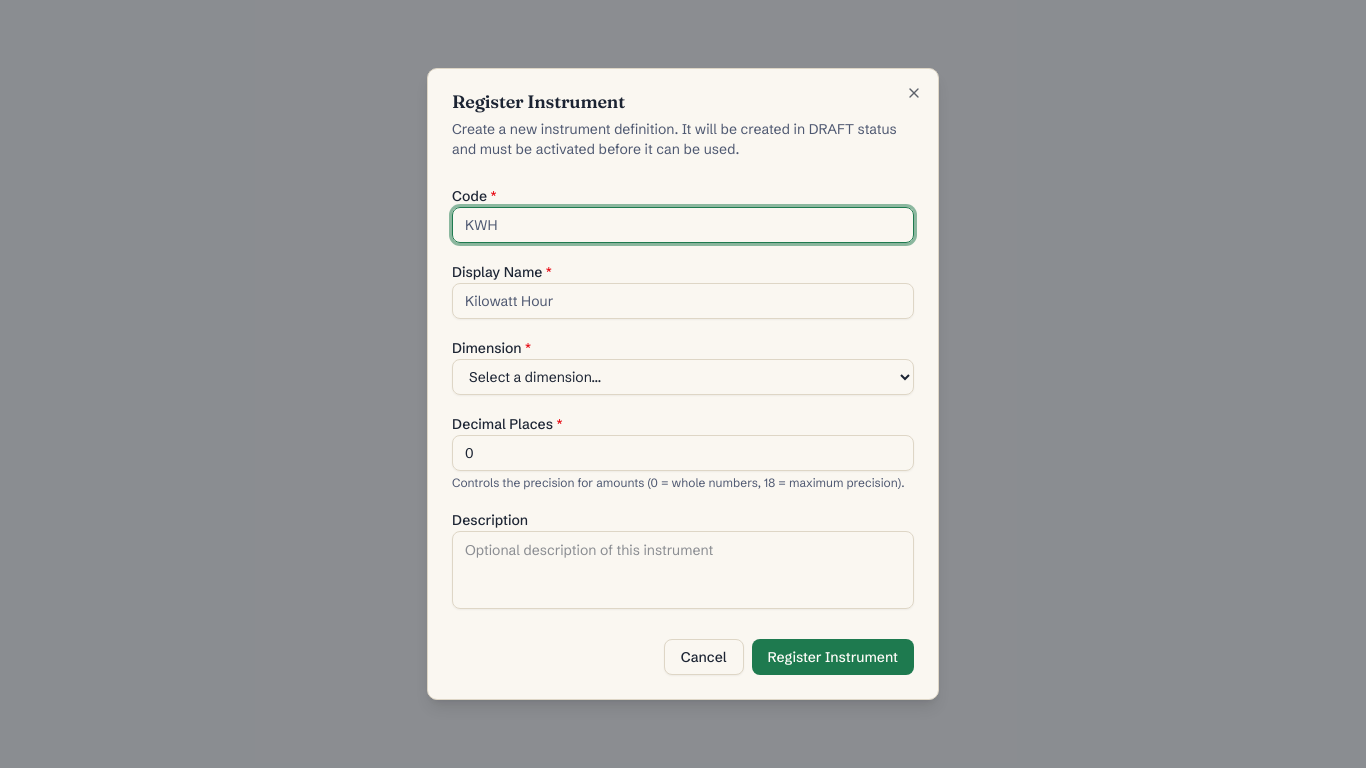
Scenario: RegisterInstrumentDialog › validates code pattern - must match ^[A-Z][A-Z0-9_]*$
# Type lowercase then blur (auto-uppercase won't help if we set directly)
Type "1INVALID" into the field labelled "Code *" at coordinates (683, 225), box x1=452 y1=207 x2=914 y2=243
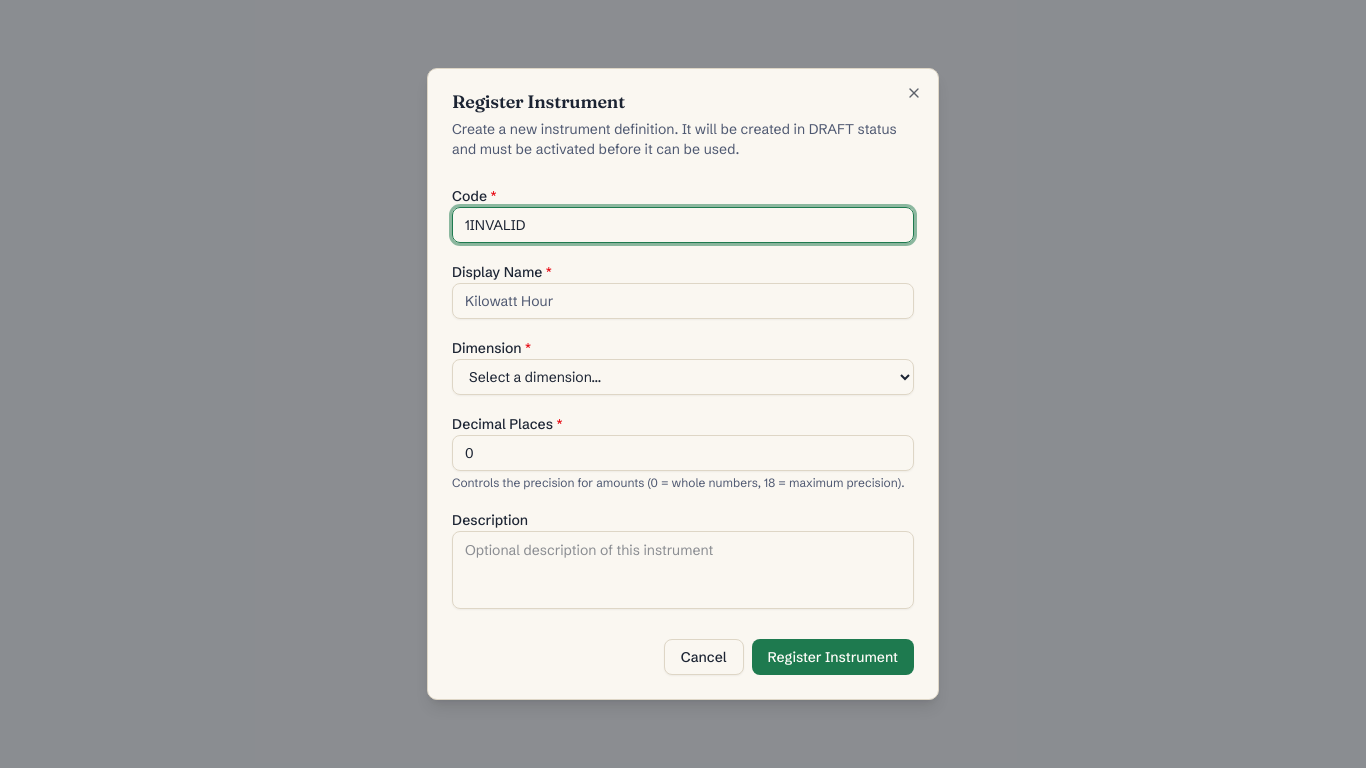
Click the button "Register Instrument" at coordinates (833, 657), box x1=752 y1=639 x2=914 y2=675
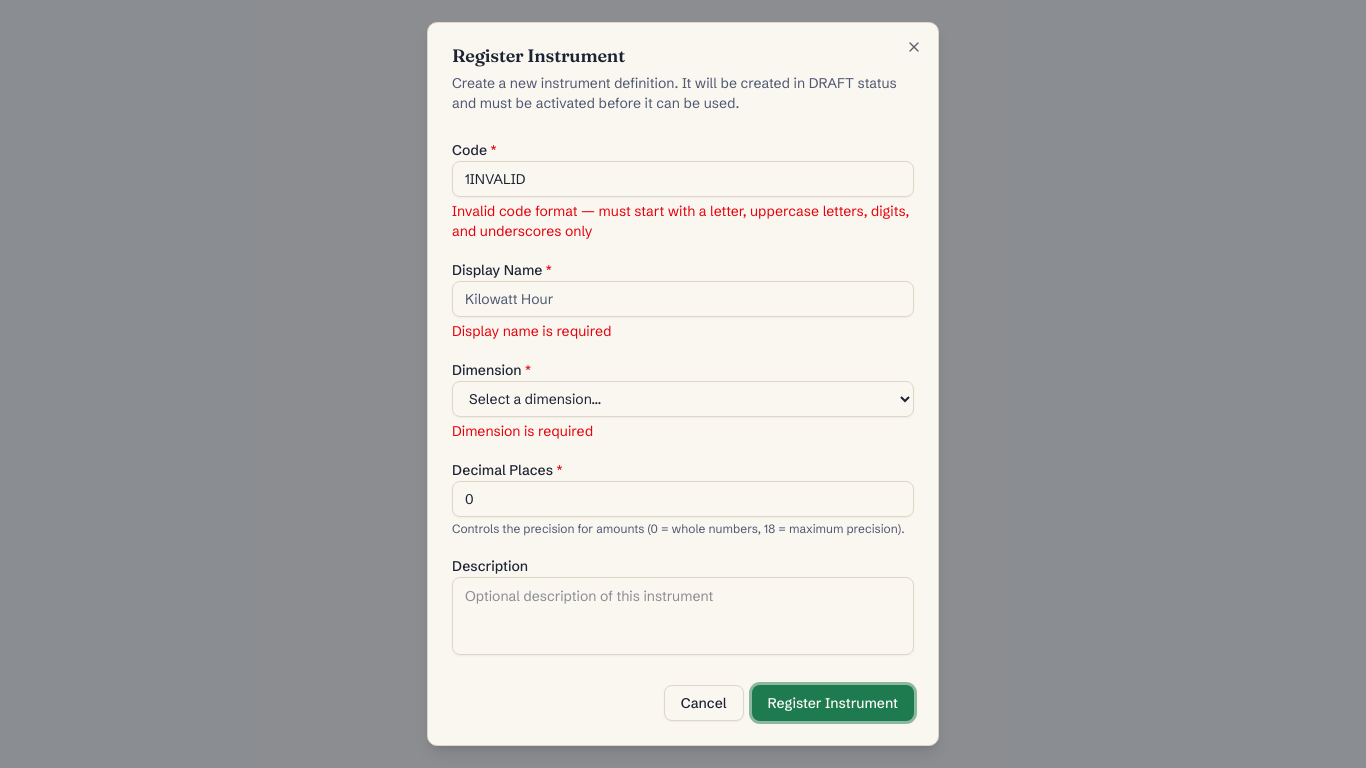
Expected: the text "Invalid code format" is shown, x1=452 y1=202 x2=909 y2=240
